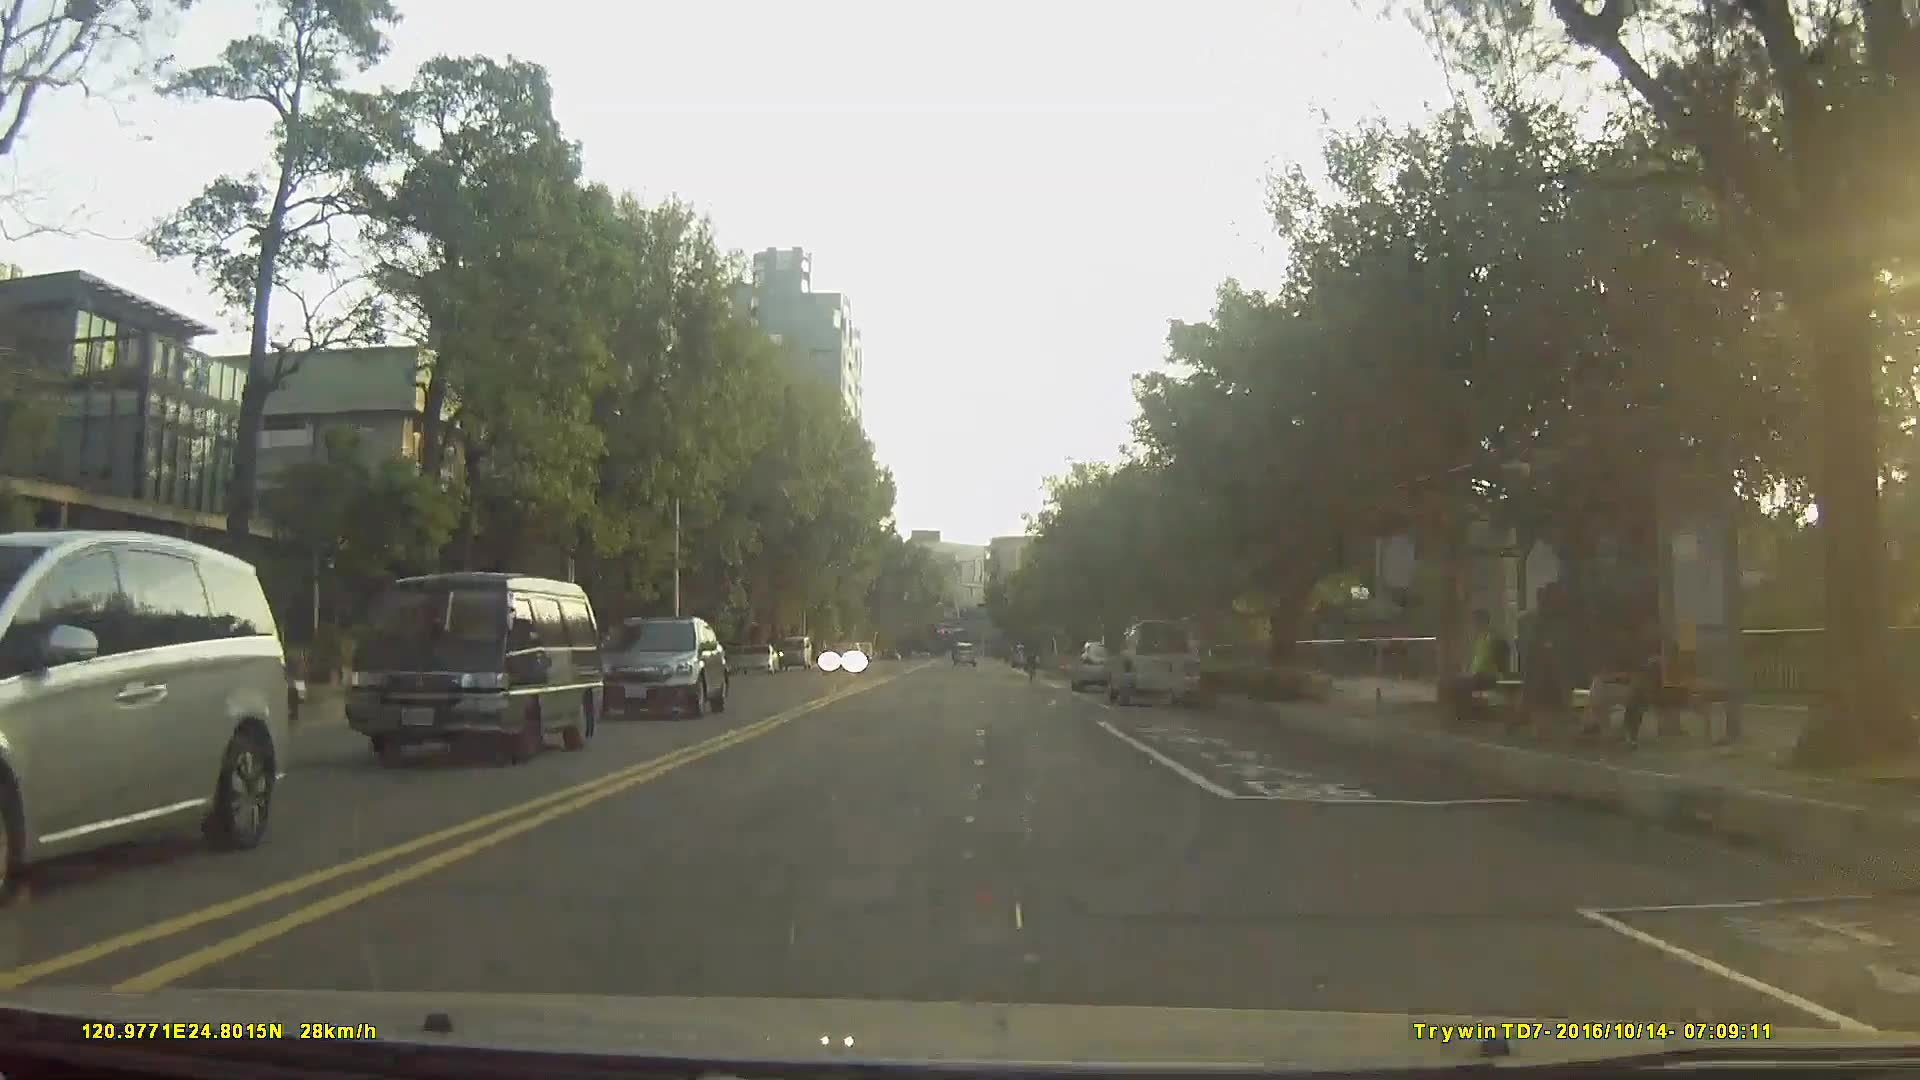pedestrian: (1577, 609, 1653, 748), (1512, 579, 1571, 749), (1453, 601, 1517, 727)
rider: (1023, 633, 1043, 685)
vehicle: (0, 525, 288, 909), (342, 568, 602, 771), (592, 615, 729, 718), (1106, 617, 1200, 706), (1070, 638, 1130, 689), (817, 636, 864, 672), (735, 640, 779, 674), (777, 633, 811, 672), (950, 641, 976, 666)
